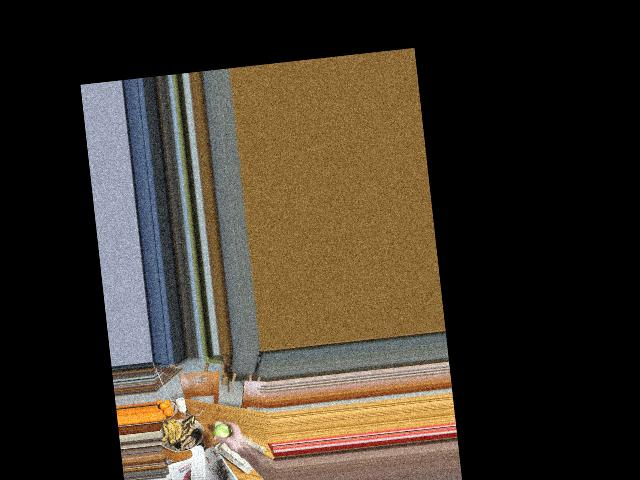apple: (211, 420, 234, 444)
